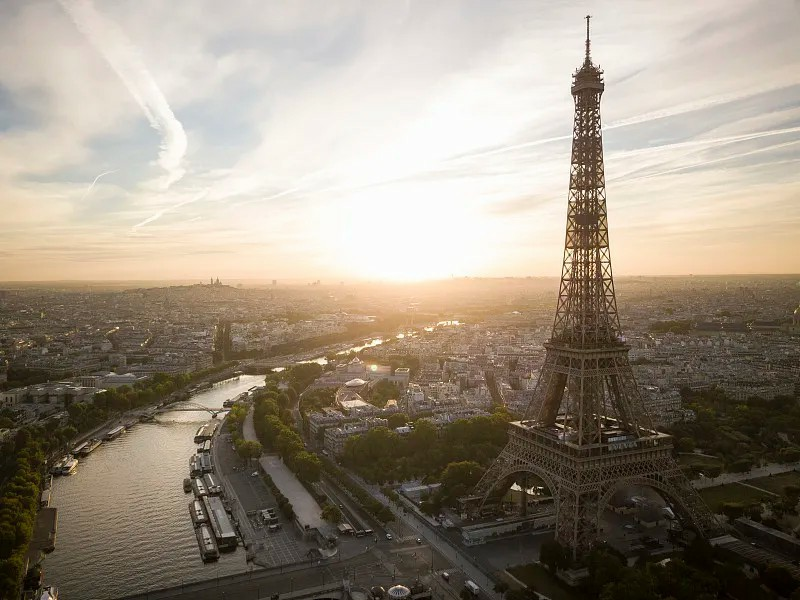Eiffel: (465, 15, 724, 573)
